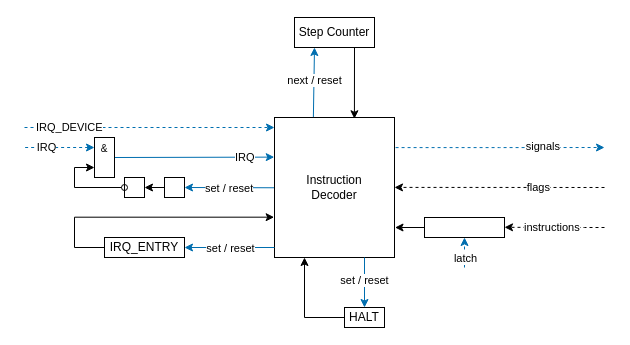
Some shapes in this 630 by 345 pixel diagram are drawn without their labels. Each missing label, with the box of its shape:
DI: (164, 176, 184, 198)
IR: (424, 216, 504, 238)
